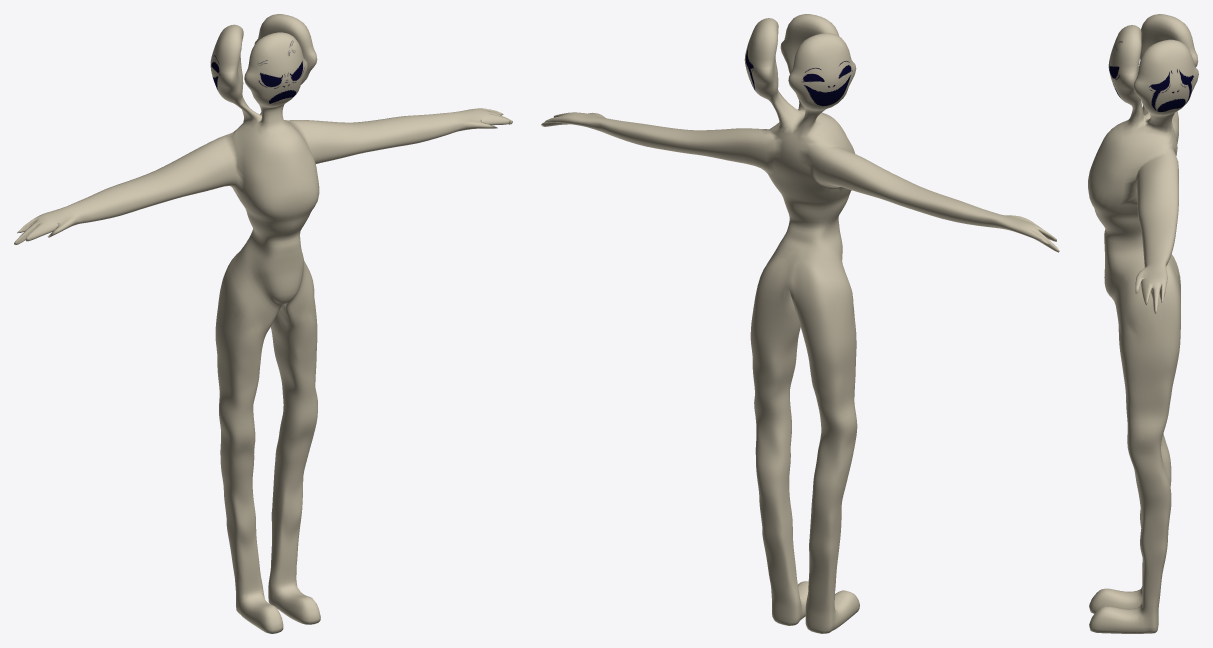
The model's file is Dual.fbx.
3 renders of one model, left to right at view 1: azimuth 30°, elevation 25°; view 2: azimuth 150°, elevation 25°; view 3: azimuth 270°, elevation 25°, orthographic. The views are drawn at different scales.
Parts seen in each view (by area): view 1: Dual; view 2: Dual; view 3: Dual.
Part boxes in pixels (<box>): Dual: <box>14,14,512,633</box>; Dual: <box>541,14,1059,633</box>; Dual: <box>1088,14,1198,633</box>.
Size of the model in its own units: 181 by 202 by 34.15.
2 materials, 2 textured.
